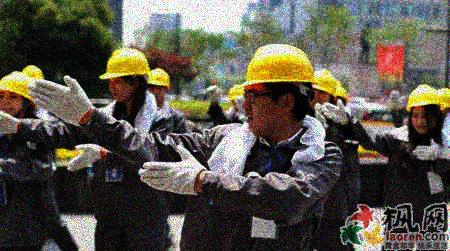helmet: (236, 42, 308, 135), (99, 46, 147, 102), (401, 83, 440, 135), (1, 74, 38, 117), (311, 68, 338, 106), (148, 68, 172, 106), (335, 86, 350, 107)
